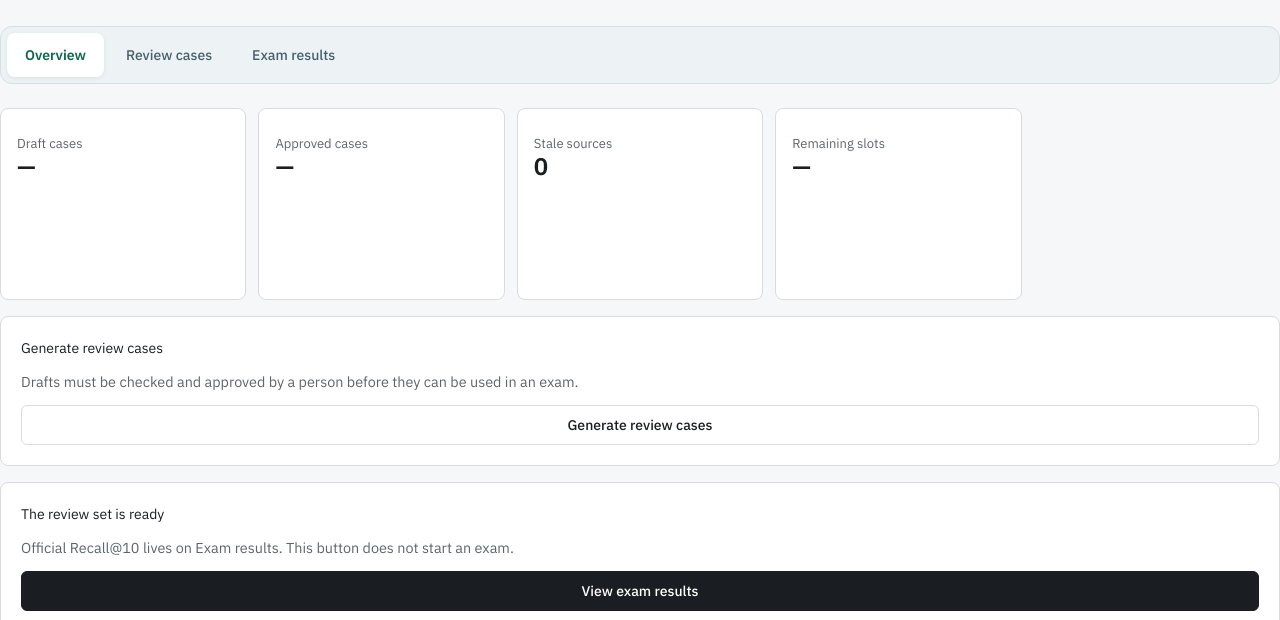
Scenario: EvaluationPanel › hides Run for holdout cases
Click the tab "Review cases" at (169, 55), box top-left (108, 33), bottom-right (230, 77)
(page scrolled)
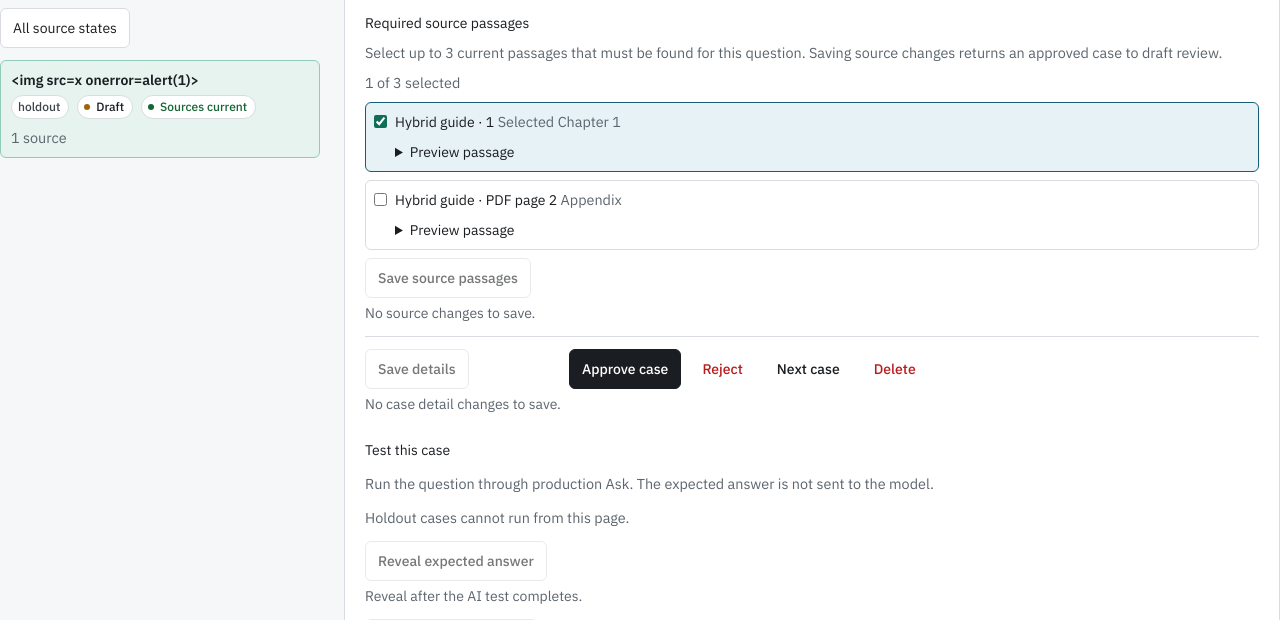
Check: the text "Holdout cases cannot run from this page." is shown, box top-left (365, 508), bottom-right (629, 527)
